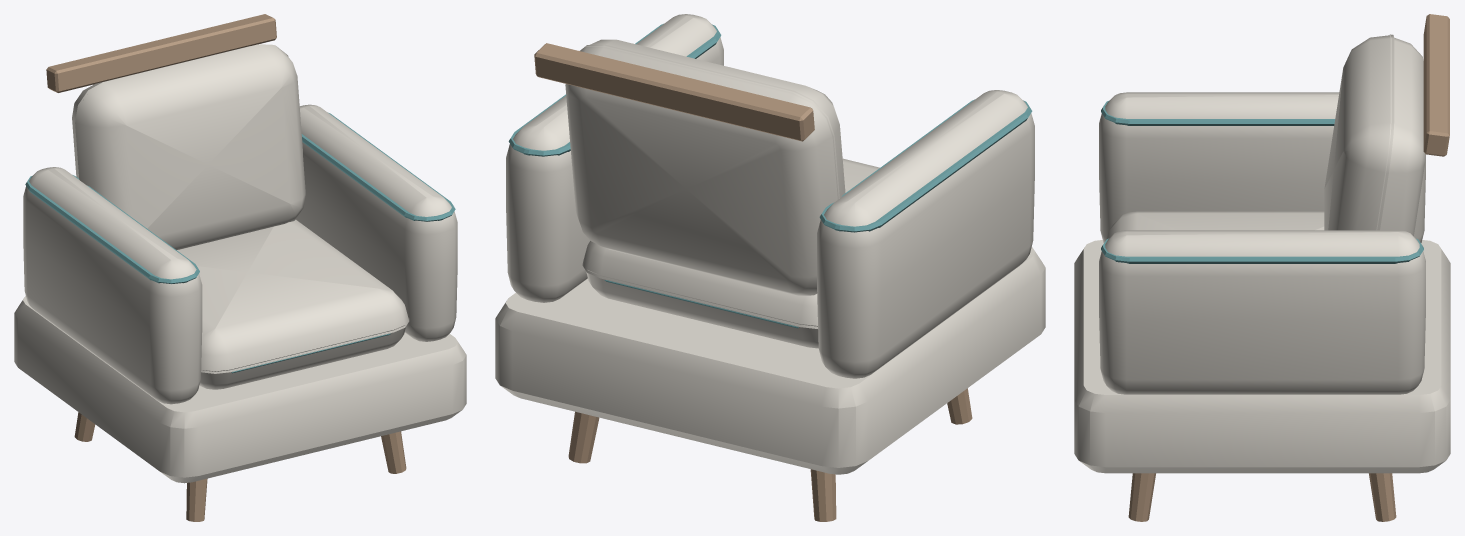
Rendered from hotel-and-resort-operations-guest-armchair-bb3c4e37__25752.glb.
3 views of the same model, side by side, from view 1: azimuth 30°, elevation 25°; view 2: azimuth 150°, elevation 25°; view 3: azimuth 270°, elevation 25° (orthographic). The views are drawn at different scales.
Visible parts, largest first — view 1: guest-armchair; view 2: guest-armchair; view 3: guest-armchair.
Boxes of the visible parts, x1,y1,x2,y2 form: guest-armchair: [14, 14, 466, 521]; guest-armchair: [495, 14, 1045, 521]; guest-armchair: [1074, 14, 1450, 521].
Bounding box in the file's own units: 0.745 × 0.8302 × 0.72.
